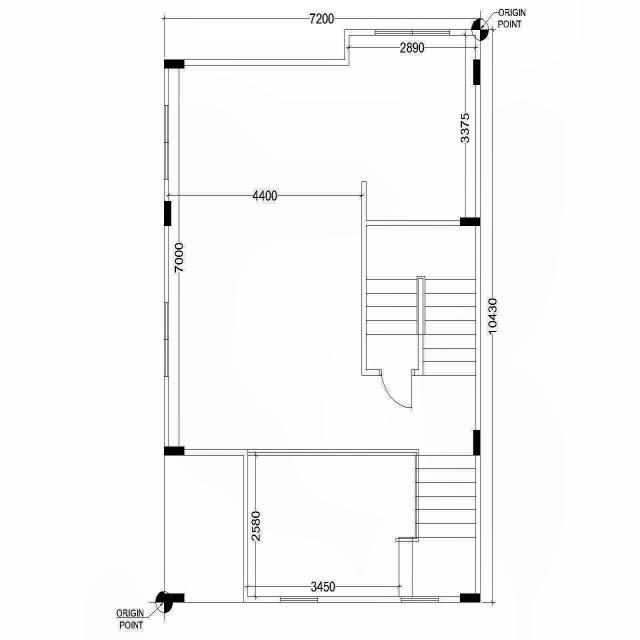Column: (472, 430, 480, 456), (164, 446, 184, 456), (164, 201, 171, 226), (474, 60, 481, 84), (460, 218, 480, 226), (460, 594, 480, 602), (164, 594, 184, 602), (164, 60, 184, 68)
Door: (378, 369, 415, 410)
Staircase: (360, 228, 482, 378), (394, 454, 481, 596)
Window: (374, 28, 451, 36), (163, 301, 170, 378), (163, 104, 170, 181), (400, 596, 440, 603), (280, 596, 318, 603)
